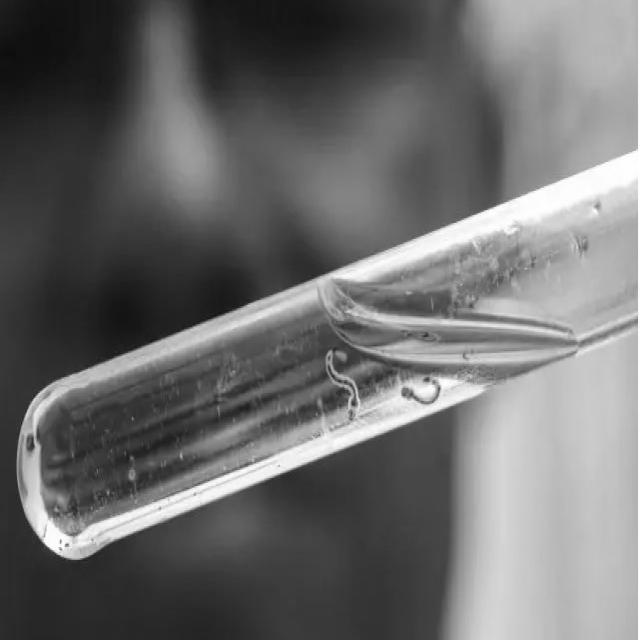larvas: (325, 351, 360, 419), (400, 380, 444, 406), (404, 325, 438, 346)
